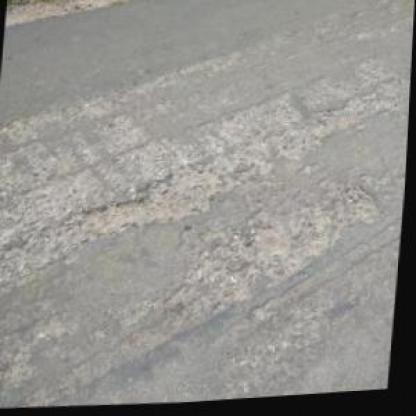pothole: (79, 164, 225, 245), (272, 97, 369, 165), (340, 188, 386, 228)
